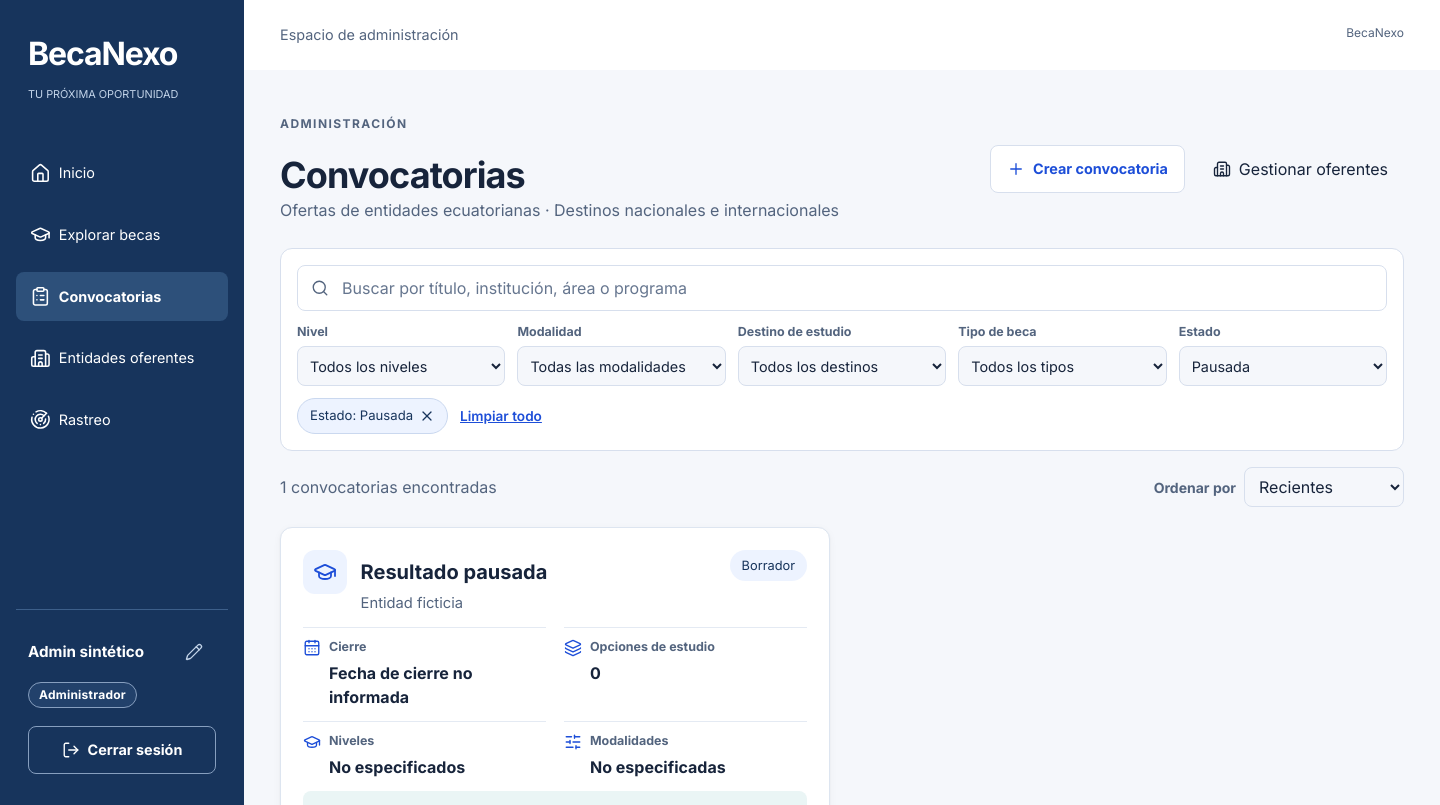
Test case: la búsqueda se aplica a los 400 ms, vuelve a la página 1, queda en la URL y conserva el foco
In the search field named "Buscar título, institución, área, descripción o programa": (842, 288) [297, 265, 1387, 311], type "beca"
Wait 450 ms
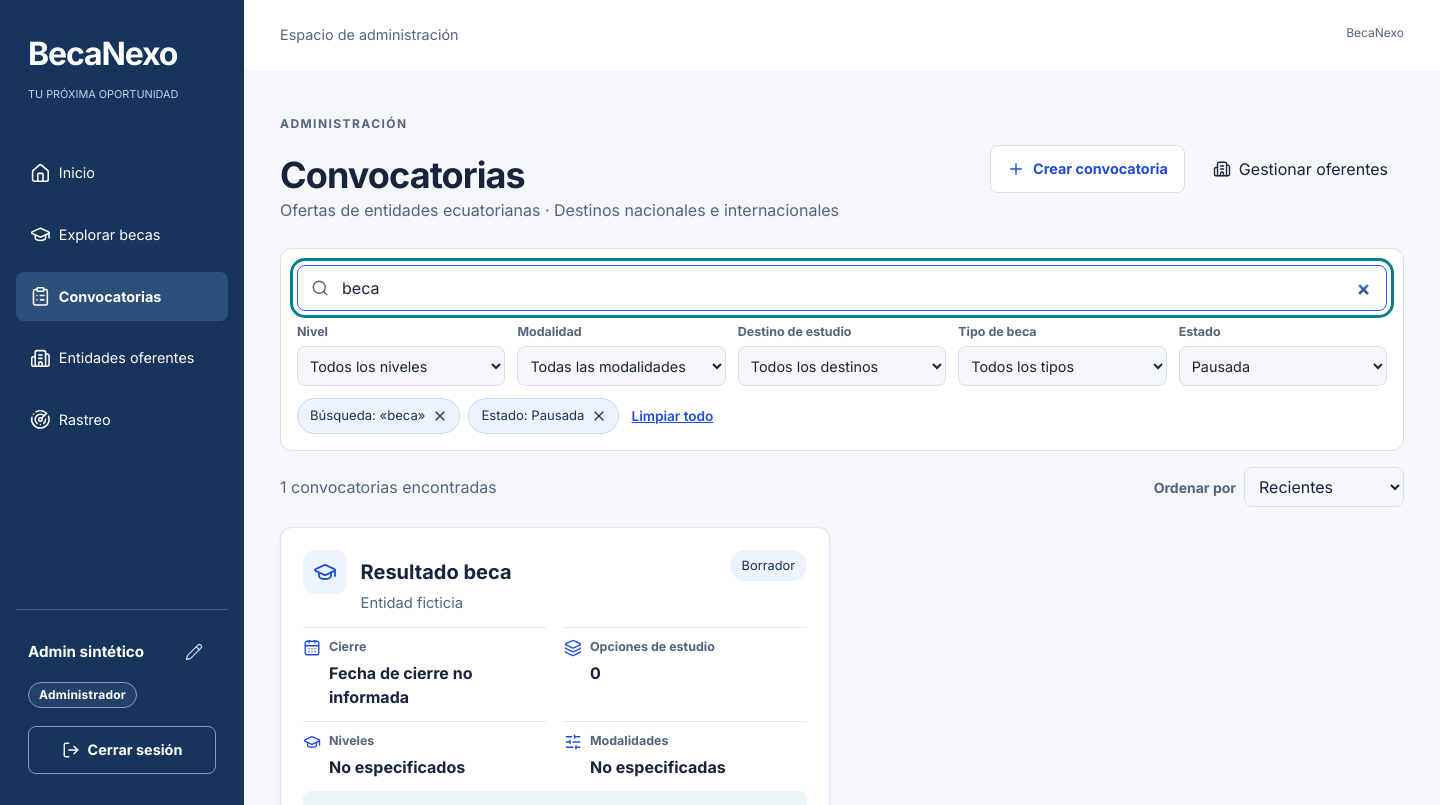
Expected: the heading "Resultado beca" is shown, [361, 560, 512, 584]
